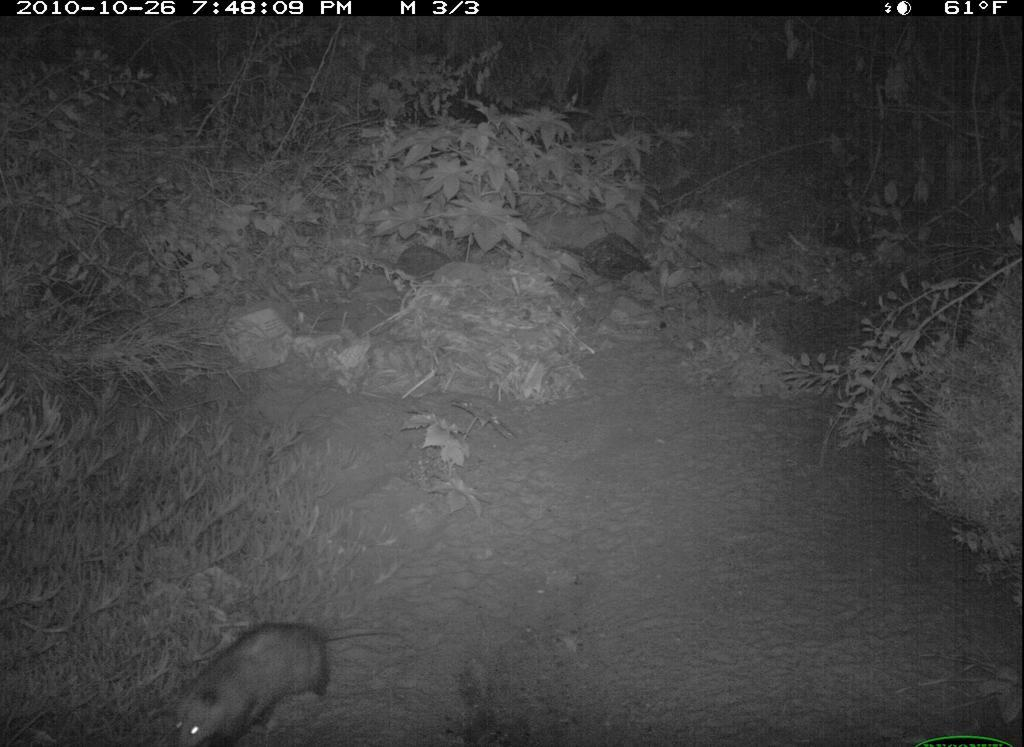opossum: (169, 616, 415, 747)
